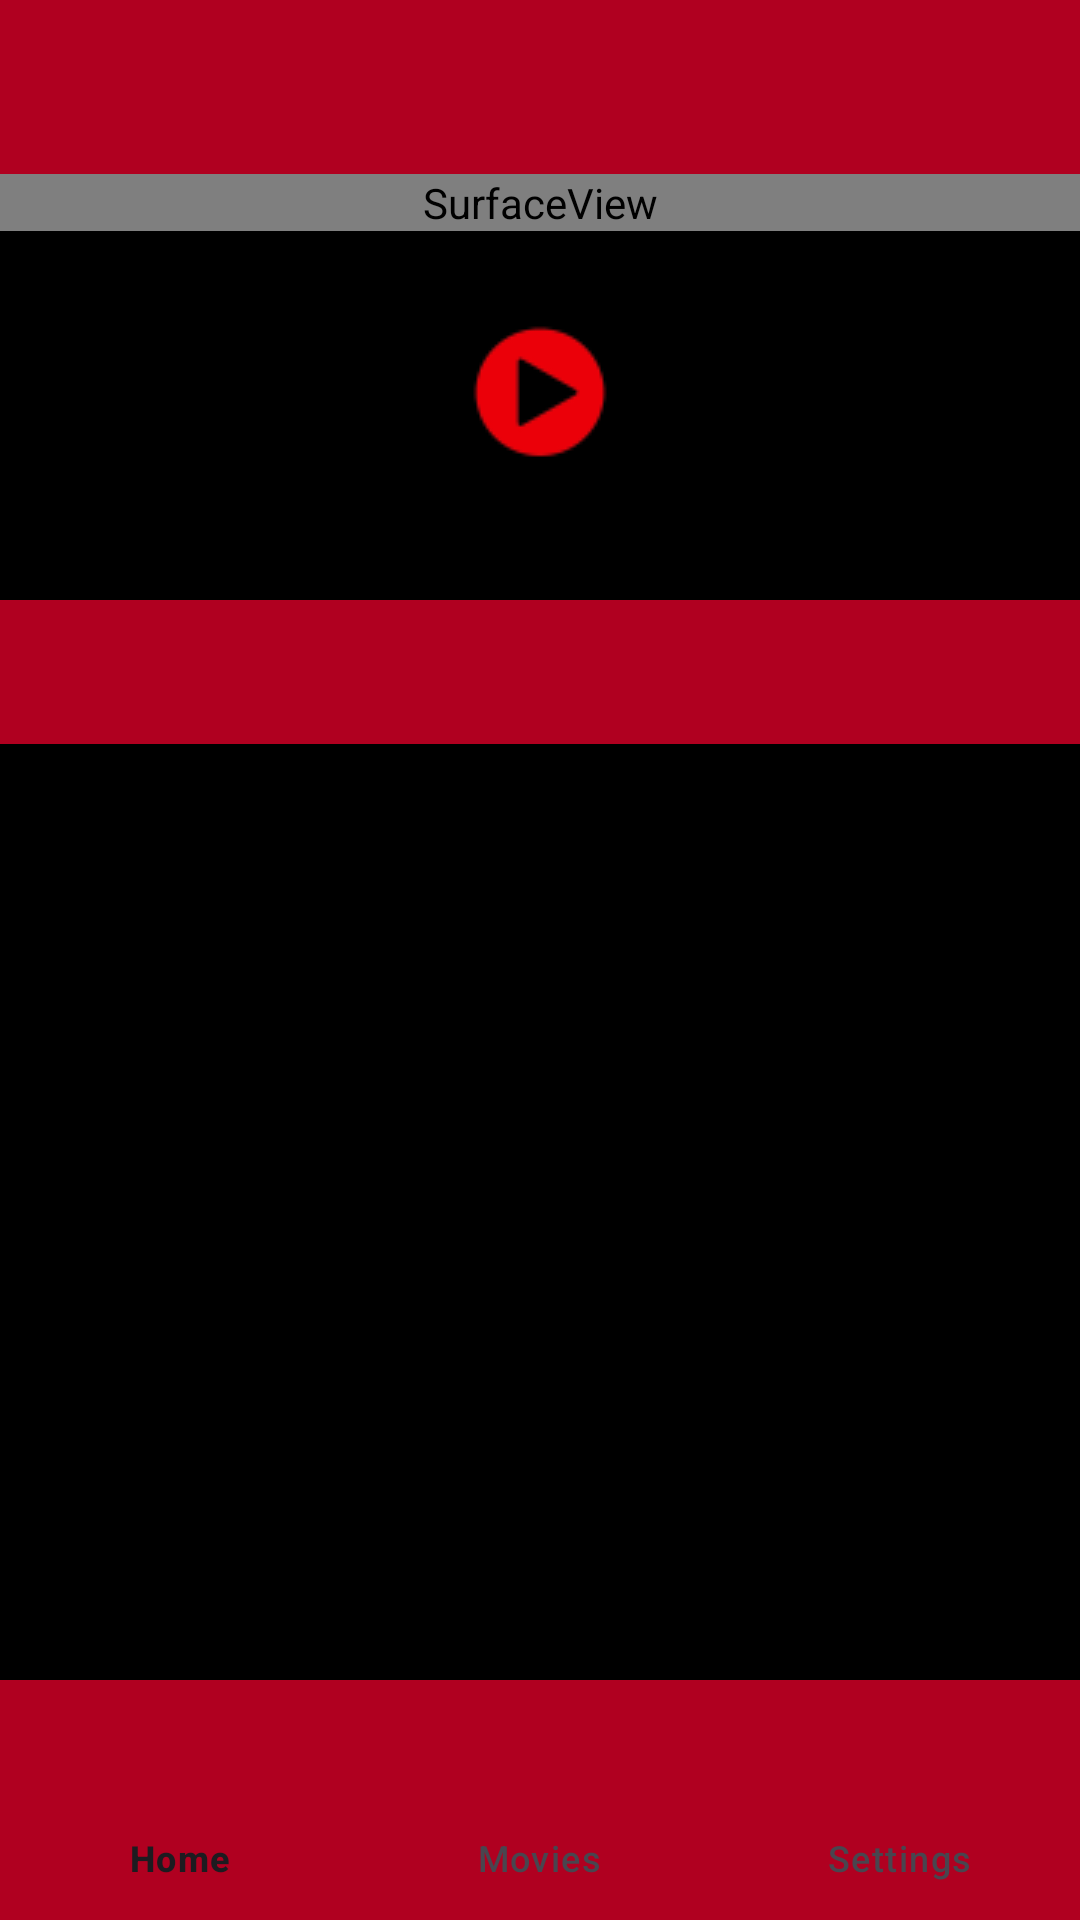

Where icons sit on this 1080px×1920px app screen, as (x1, y1, x2, y2):
play: (473, 326, 607, 457)
